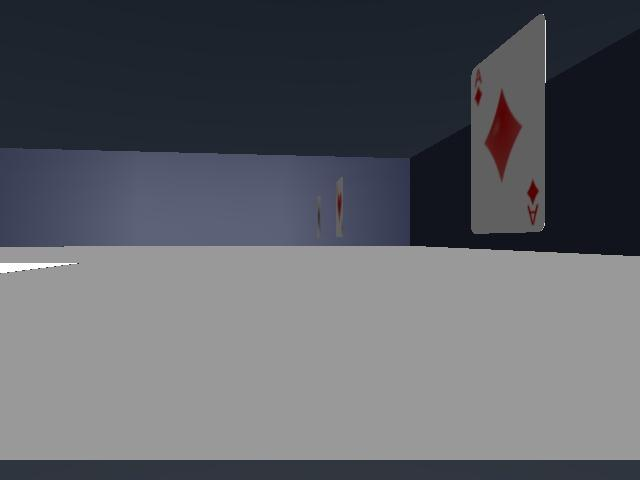diamond: (471, 15, 545, 233)
heart: (336, 177, 343, 236)
